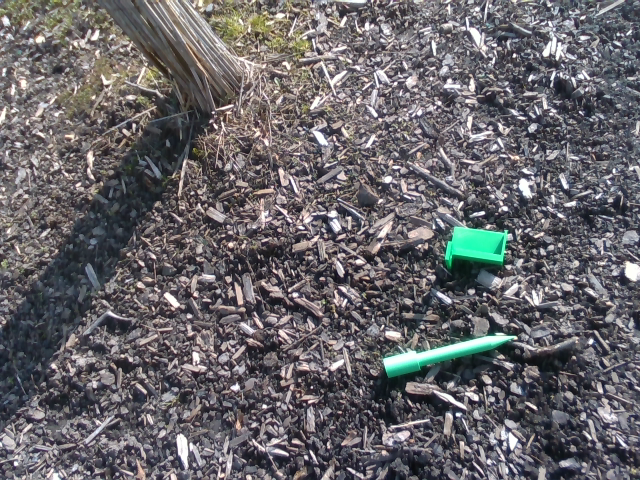Probe: (377, 328, 521, 384)
